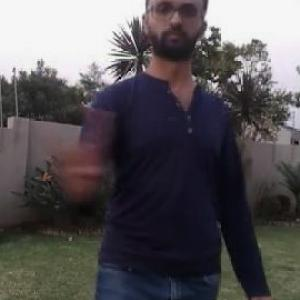takeoff-hand: (35, 124, 113, 203)
